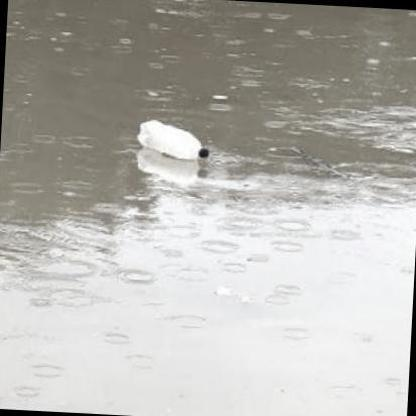plastic bottle: (138, 120, 209, 159)
